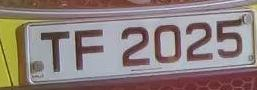0: (150, 18, 186, 67)
2: (119, 21, 155, 72), (181, 17, 218, 65)
5: (213, 15, 247, 62)
F: (70, 27, 111, 75)
T: (36, 27, 74, 76)
